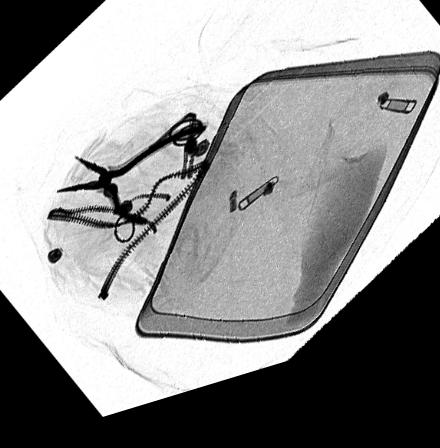Pliers: (55, 132, 201, 234)
